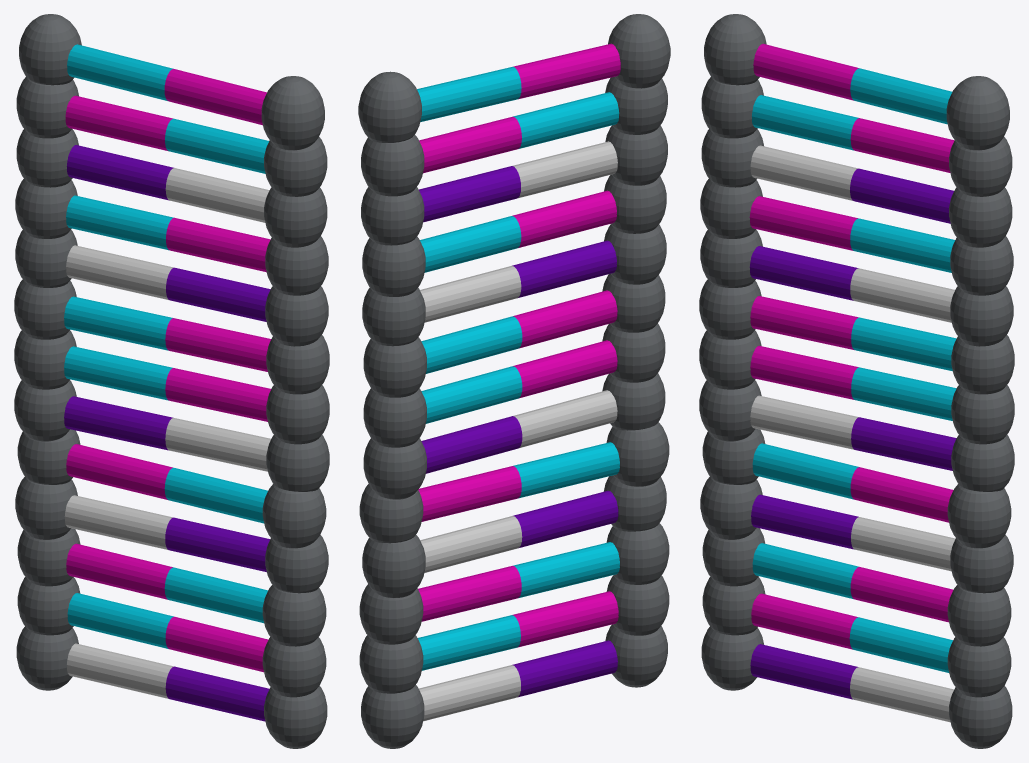
Rendered from DNAflatmutation3.glb.
3 renders of one model, left to right at view 1: azimuth 90°, elevation 25°; view 2: azimuth 150°, elevation 25°; view 3: azimuth 270°, elevation 25°, orthographic.
Parts seen in each view (by area): view 1: Mesh_Mesh_head_geo.001_lambert2SG.001; view 2: Mesh_Mesh_head_geo.001_lambert2SG.001; view 3: Mesh_Mesh_head_geo.001_lambert2SG.001.
Boxes of the visible parts, x1,y1,x2,y2 form: Mesh_Mesh_head_geo.001_lambert2SG.001: (14, 14, 329, 748); Mesh_Mesh_head_geo.001_lambert2SG.001: (358, 14, 670, 748); Mesh_Mesh_head_geo.001_lambert2SG.001: (699, 14, 1014, 748).
Bounding box in the file's own units: 45.86 × 161 × 68.85.
